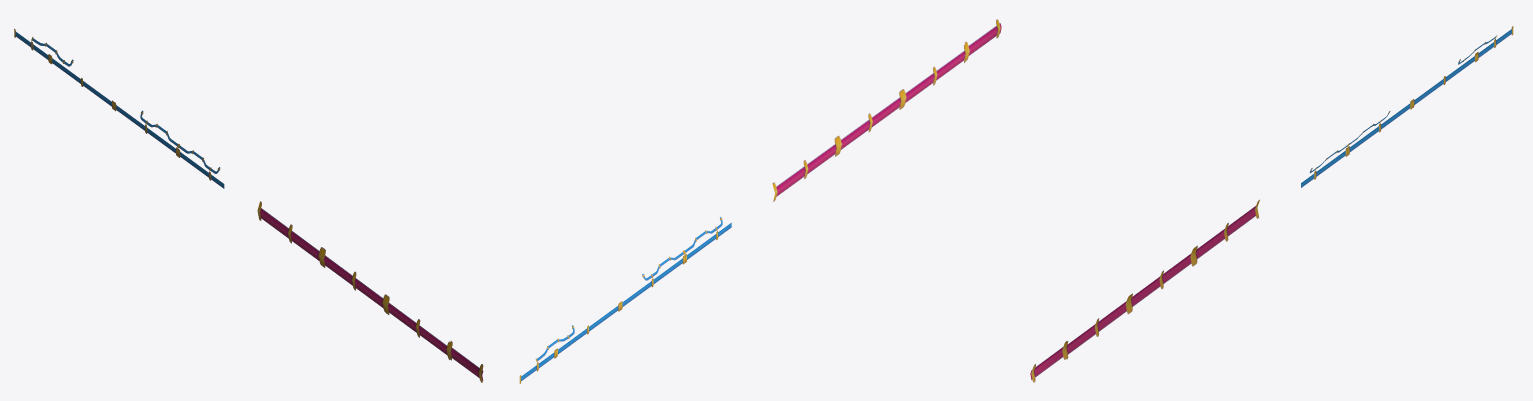
File: Pipes_Side41.fbx
3 views of the same model, side by side, from view 1: azimuth 30°, elevation 25°; view 2: azimuth 150°, elevation 25°; view 3: azimuth 330°, elevation 25° (orthographic).
Parts seen in each view (by area): view 1: Side_Pipes_2D_Red, Top_Pipes_2D_Blue; view 2: Side_Pipes_2D_Red, Top_Pipes_2D_Blue; view 3: Side_Pipes_2D_Red, Top_Pipes_2D_Blue.
Part boxes in pixels (x1,y1,x2,y2): Side_Pipes_2D_Red: [257, 201, 483, 382]; Top_Pipes_2D_Blue: [14, 28, 224, 188]; Side_Pipes_2D_Red: [772, 19, 1001, 201]; Top_Pipes_2D_Blue: [519, 217, 731, 383]; Side_Pipes_2D_Red: [1030, 199, 1259, 382]; Top_Pipes_2D_Blue: [1301, 26, 1513, 187].
Size of the model in its own units: 6.81 by 15.71 by 543.
1 material, 1 textured.
